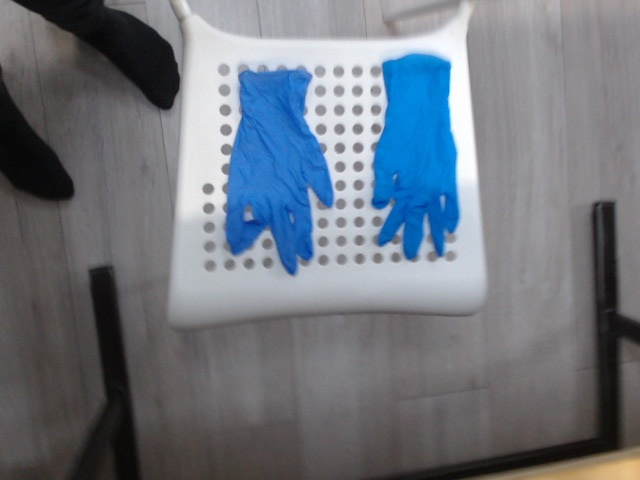medical_glove: (225, 68, 334, 275), (374, 56, 460, 260)
